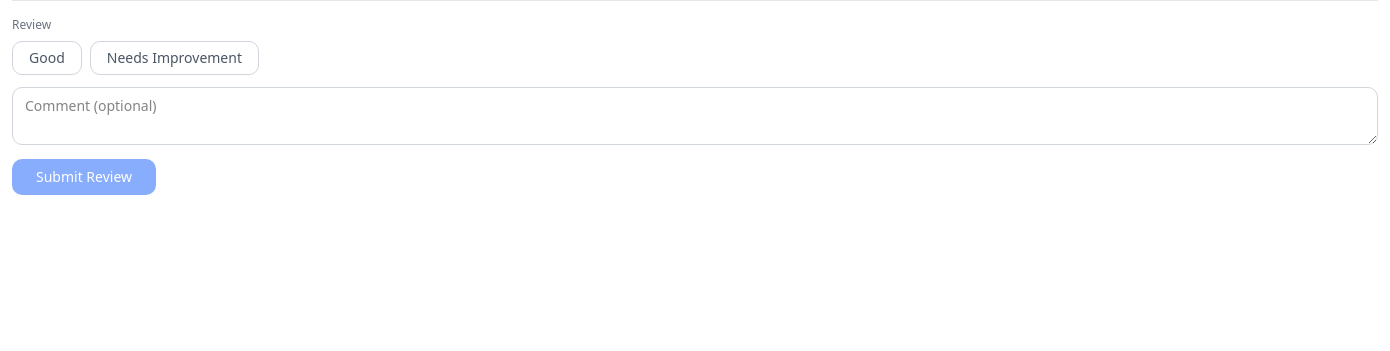
Test case: keeps the review draft open on network failure and never claims it was saved
Click the button "Needs Improvement".
click(174, 58)  # box [90, 41, 259, 75]
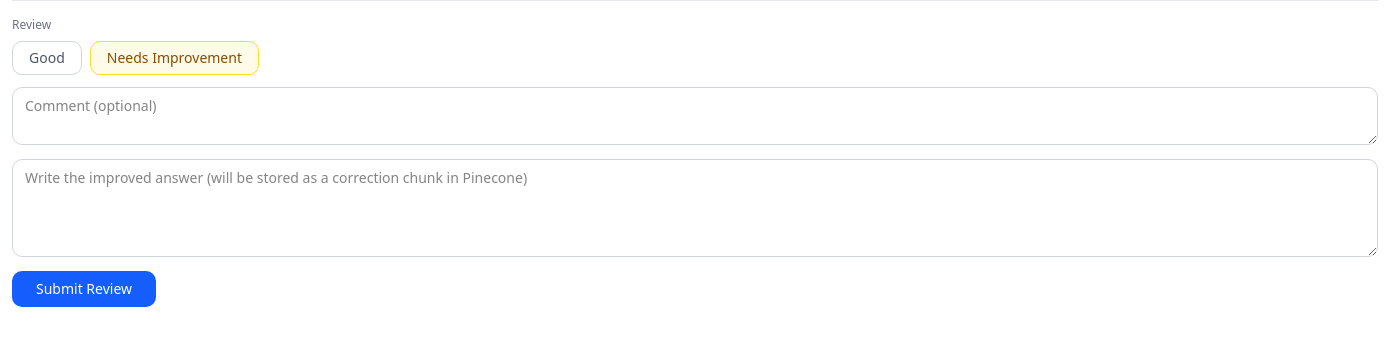
Replace the text in the text box labelled "improved answer" with "Keep this answer" at [695, 208], box [12, 159, 1378, 257]
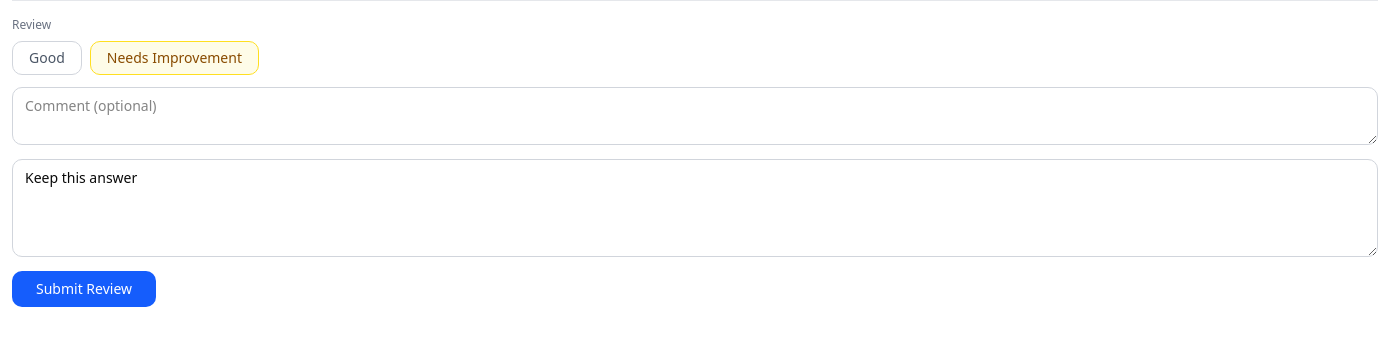
Click the button "Submit Review".
click(84, 289)  # box [12, 271, 156, 307]
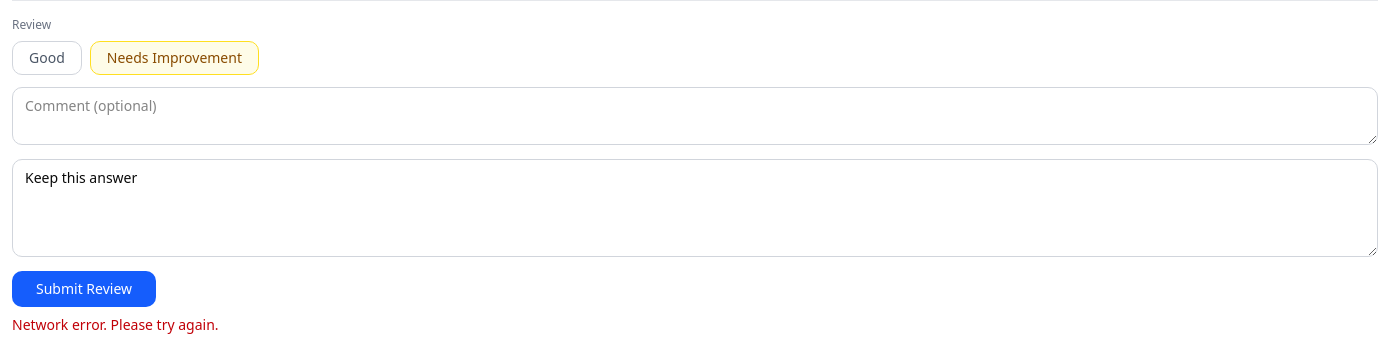
Now the message shows "Network", box [12, 315, 219, 334]
